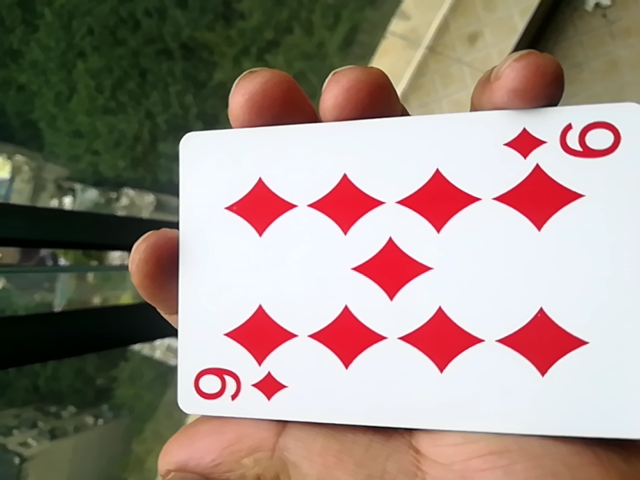fk 9: (166, 113, 632, 448)
